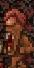zombie: (0, 1, 34, 68)
